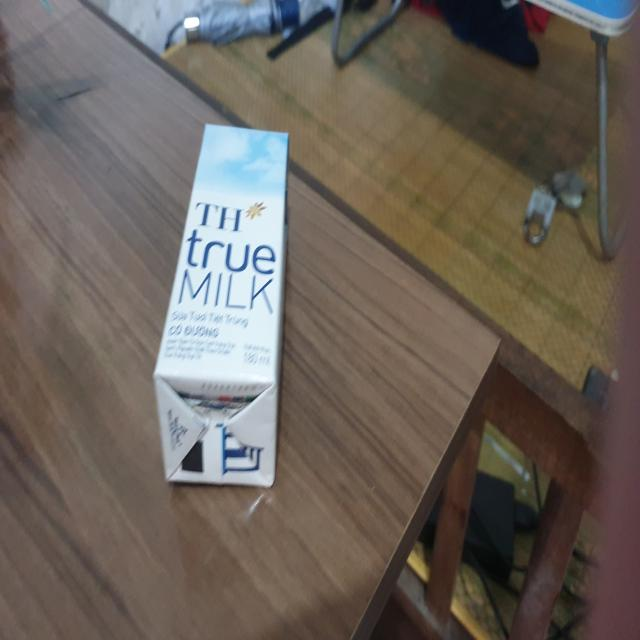TH: (153, 122, 291, 491)
